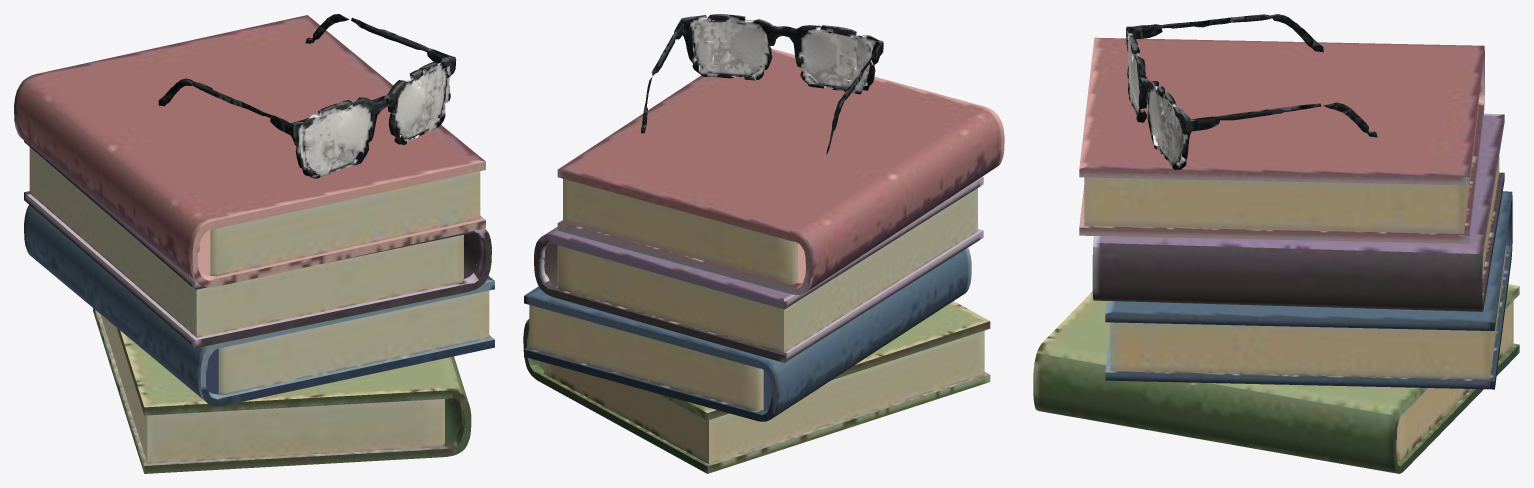
The model's file is reading_pile.glb.
3 views of the same model, side by side, from view 1: azimuth 30°, elevation 25°; view 2: azimuth 150°, elevation 25°; view 3: azimuth 270°, elevation 25° (orthographic). The views are drawn at different scales.
Visible parts, largest first — view 1: static; view 2: static; view 3: static.
Part boxes in pixels (left/top/right/bottom): static: left=14, top=14, right=494, bottom=473; static: left=523, top=14, right=1004, bottom=473; static: left=1033, top=14, right=1519, bottom=473.
Size of the model in its own units: 0.6875 by 0.5599 by 0.737.
2 materials, 2 textured.
